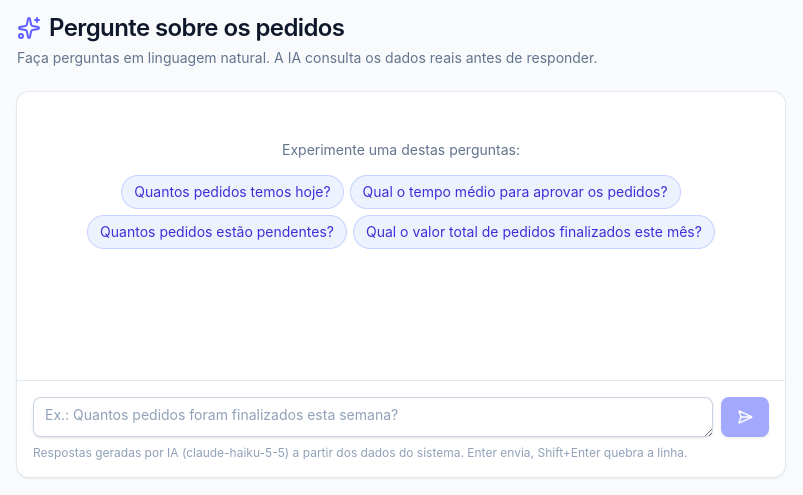
Test: AssistantPage › mostra mensagem amigável quando o limite de perguntas é atingido
Step 1. Type "Quantos pedidos hoje?" into the text box named "Sua pergunta" → (373, 417), box left=33, top=397, right=713, bottom=437
Then press Enter
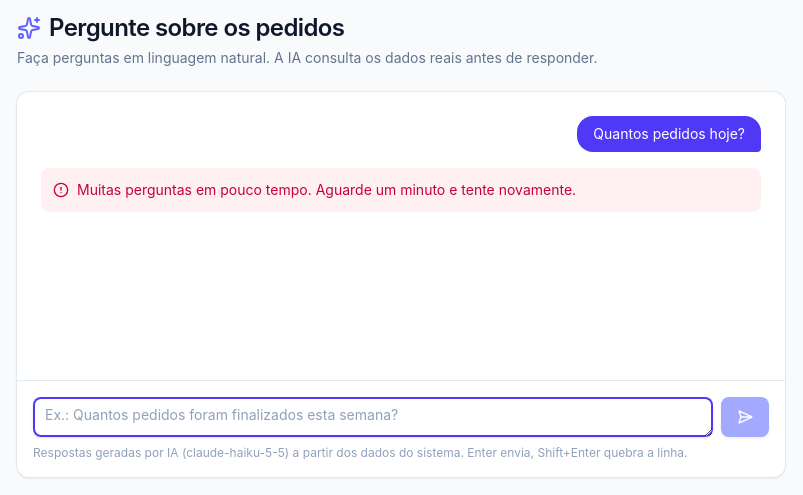
Expected: the message shows "Muitas perguntas em pouco tempo", left=77, top=181, right=576, bottom=198
